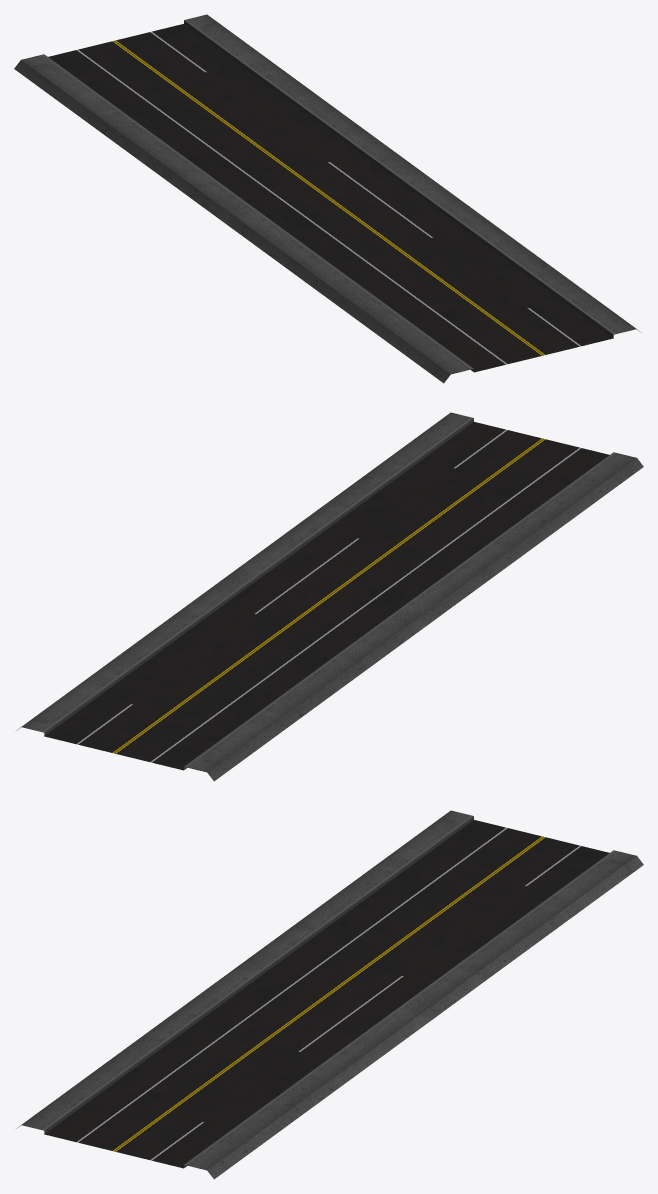
Rendered from RJs_Road 2+2 Basic Segment_F_lod.fbx.
The picture shows the model from 3 angles, top to bottom: view 1: azimuth 30°, elevation 25°; view 2: azimuth 150°, elevation 25°; view 3: azimuth 330°, elevation 25°; orthographic projection.
Visible parts, largest first — view 1: plane; view 2: plane; view 3: plane.
Boxes of the visible parts, <box> form: plane: <box>14,14,641,383</box>; plane: <box>16,412,643,781</box>; plane: <box>16,810,643,1179</box>.
Size of the model in its own units: 1720 by 60.1 by 6400.
